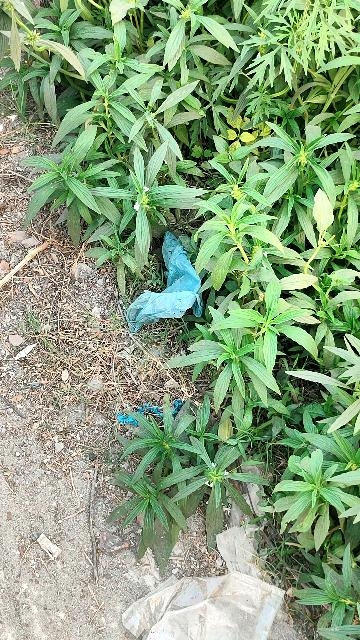packet: (110, 232, 215, 338)
